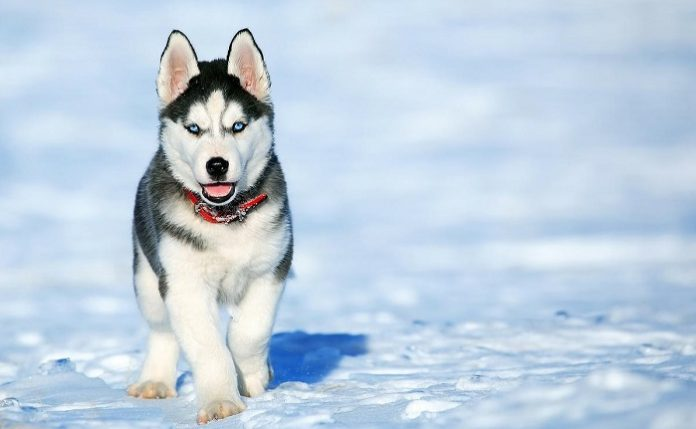husky: (117, 18, 306, 408)
